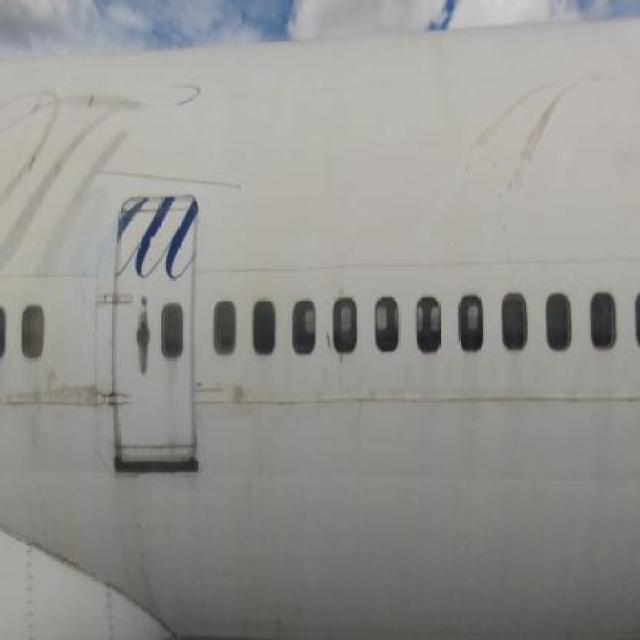Scartch: (443, 68, 603, 234), (0, 84, 135, 270), (43, 379, 128, 424), (194, 379, 257, 419)
